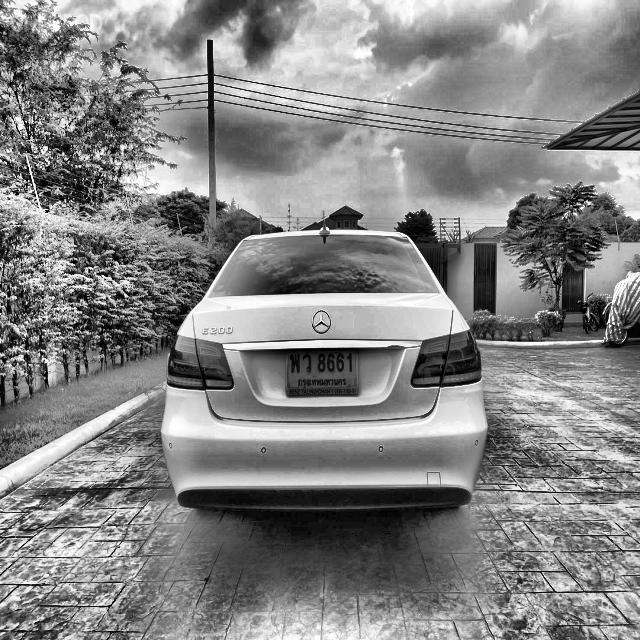license-plate: (287, 343, 358, 398)
